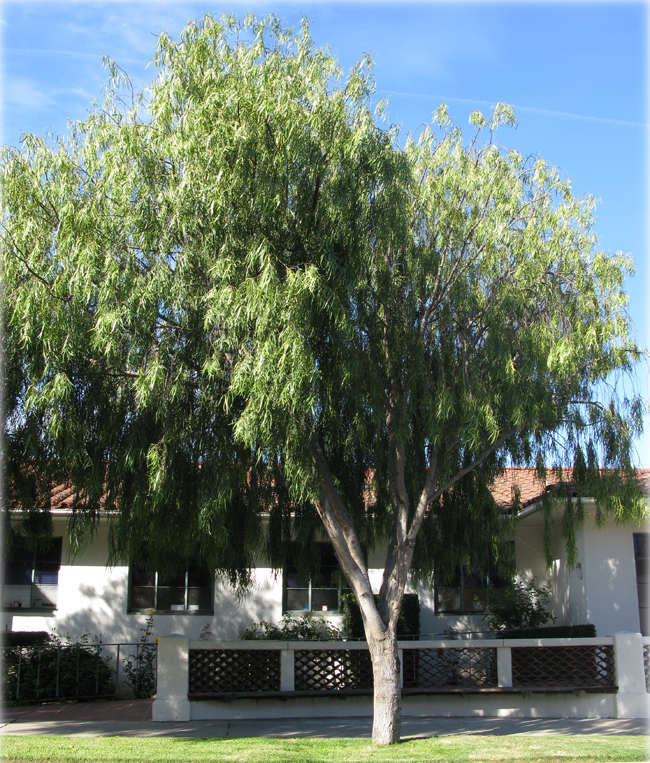tree: (1, 9, 650, 750)
